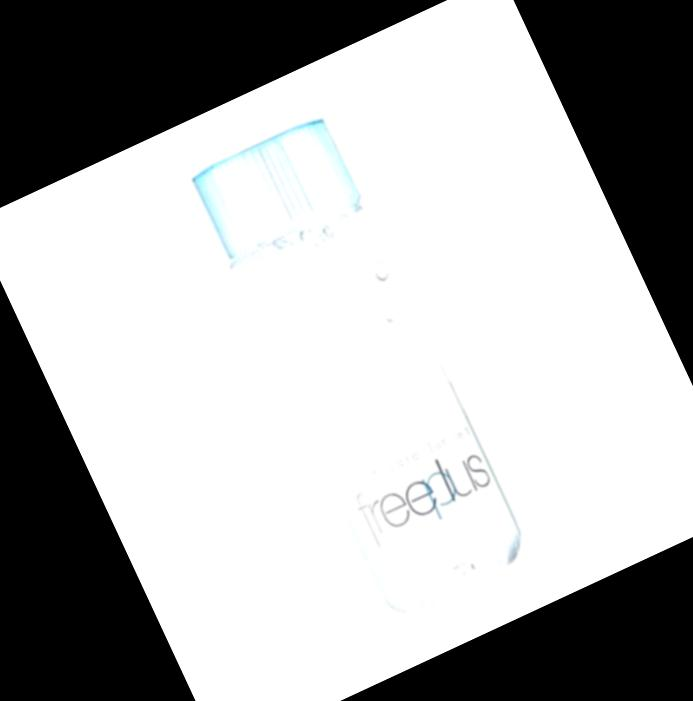cosmetic: (192, 115, 535, 622)
